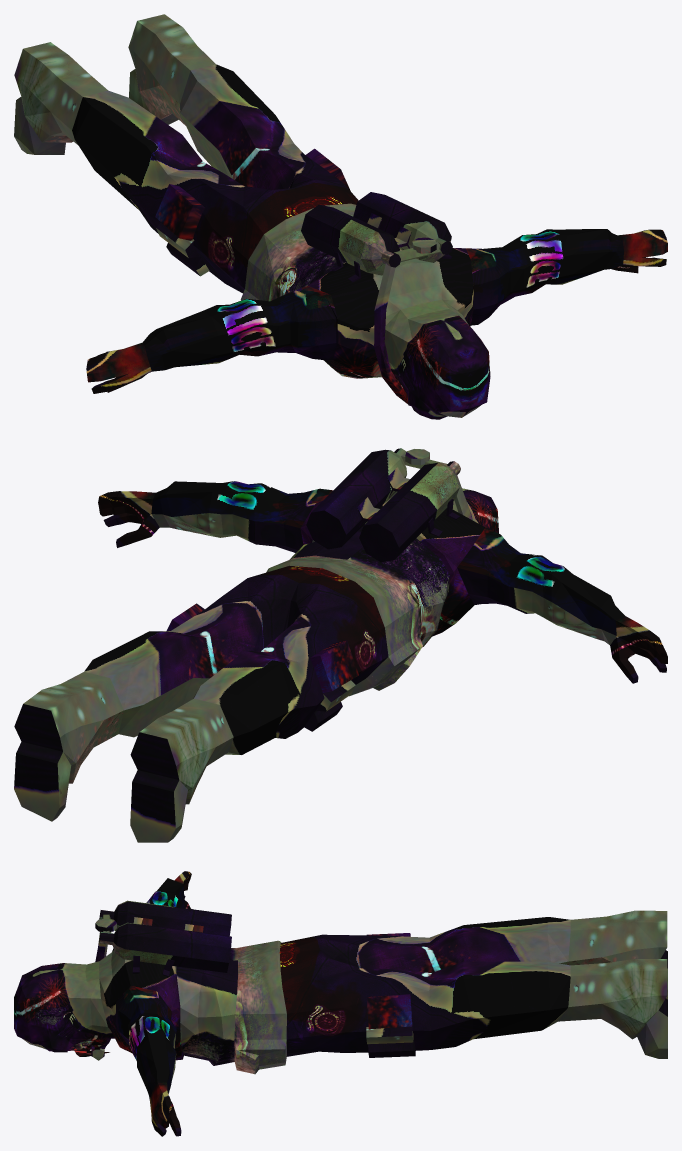
Rendered from fatscifizombieA_wtf.obj.
3 views of the same model, one above another, from view 1: azimuth 30°, elevation 25°; view 2: azimuth 150°, elevation 25°; view 3: azimuth 270°, elevation 25° (orthographic). The views are drawn at different scales.
Parts seen in each view (by area): view 1: group1; view 2: group1; view 3: group1, group2.
Boxes of the visible parts, left/top/right/bottom form: group1: left=14, top=14, right=667, bottom=419; group1: left=14, top=448, right=667, bottom=842; group1: left=14, top=871, right=667, bottom=1136; group2: left=35, top=1008, right=91, bottom=1049.
Bounding box in the file's own units: 576 × 161 × 660.
